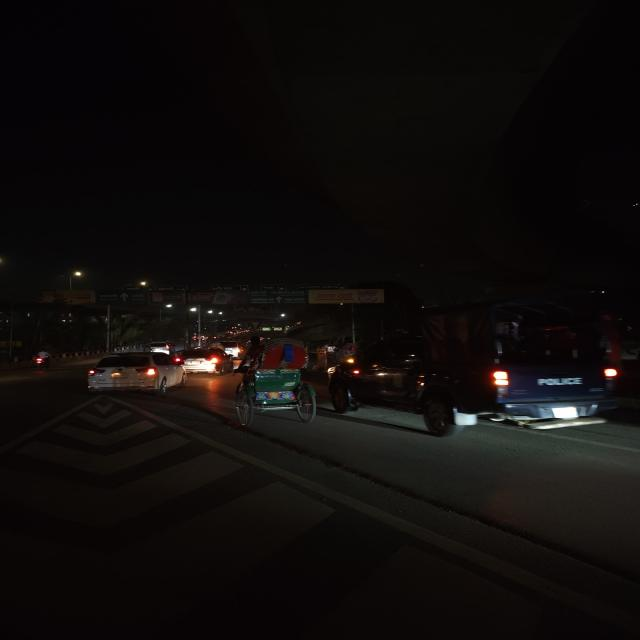car: (324, 290, 629, 442), (82, 351, 187, 397), (180, 347, 229, 375), (146, 342, 172, 352)
motorcycle: (26, 350, 54, 371)
rickshaw: (232, 338, 318, 426)
